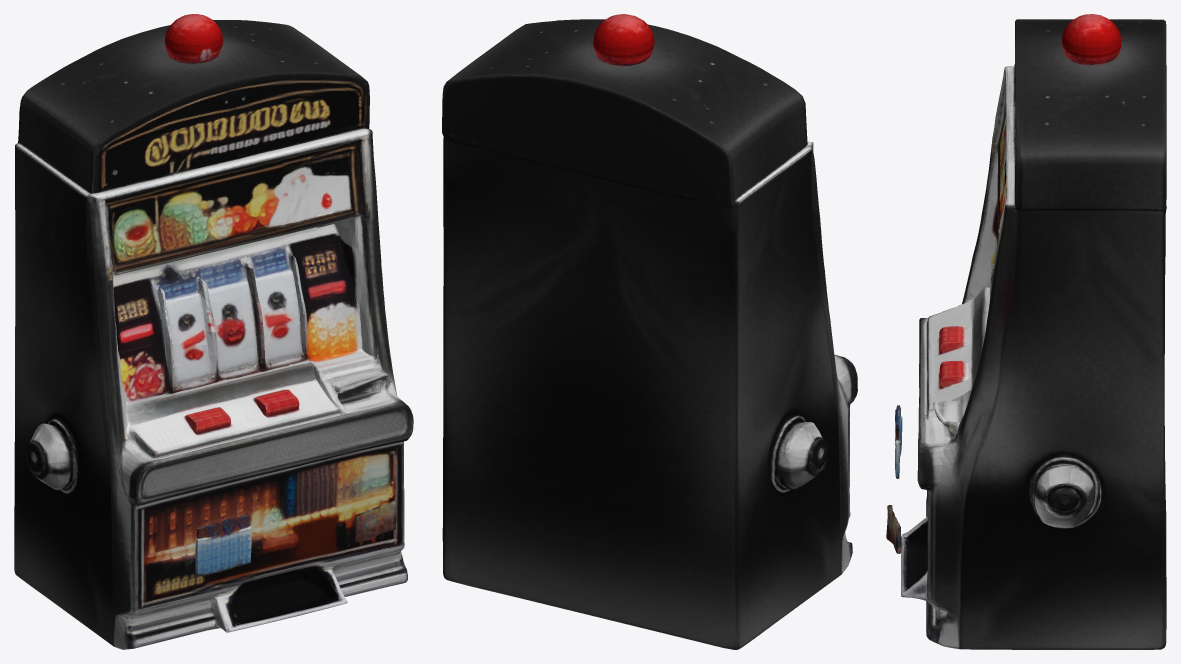
3 renders of one model, left to right at view 1: azimuth 30°, elevation 25°; view 2: azimuth 150°, elevation 25°; view 3: azimuth 270°, elevation 25°, orthographic. The views are drawn at different scales.
Visible parts, largest first — view 1: world; view 2: world; view 3: world.
Part boxes in pixels (bbox=[...]): world: bbox=[14, 14, 413, 649]; world: bbox=[442, 14, 857, 649]; world: bbox=[886, 14, 1166, 649].
Bounding box in the file's own units: 0.6507 × 0.9978 × 0.448.
1 material, 1 textured.
